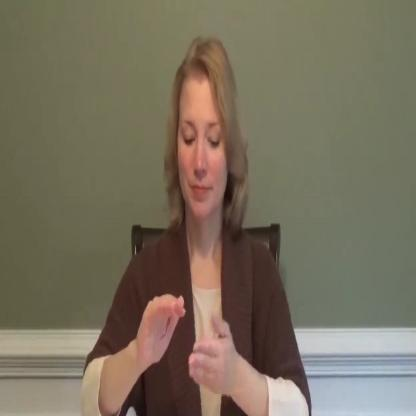ExcuseMe: (82, 36, 313, 416)
